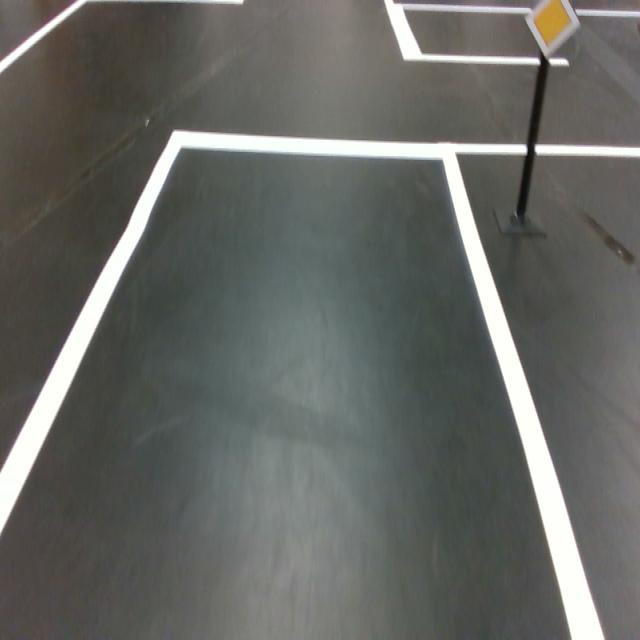priority-sign: (524, 0, 580, 61)
